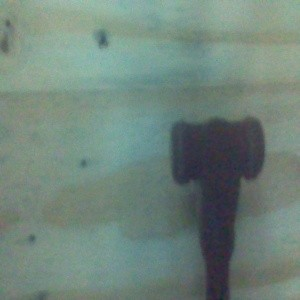palu: (170, 114, 265, 300)
